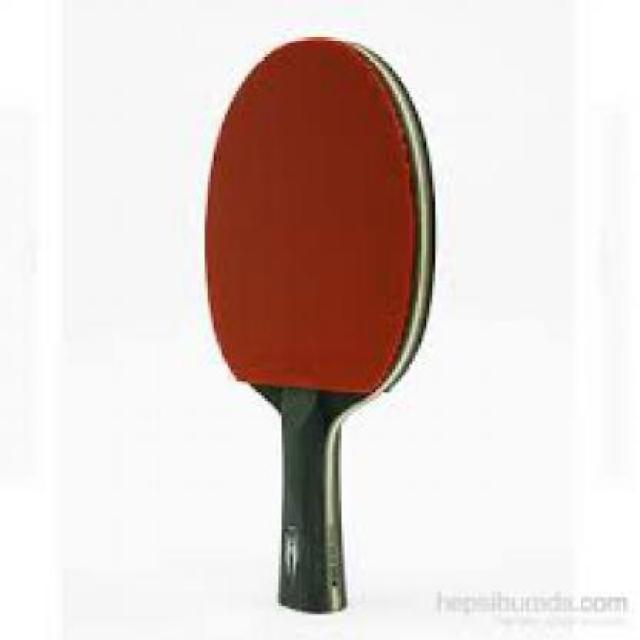table_tennis_racket: (196, 32, 439, 422)
